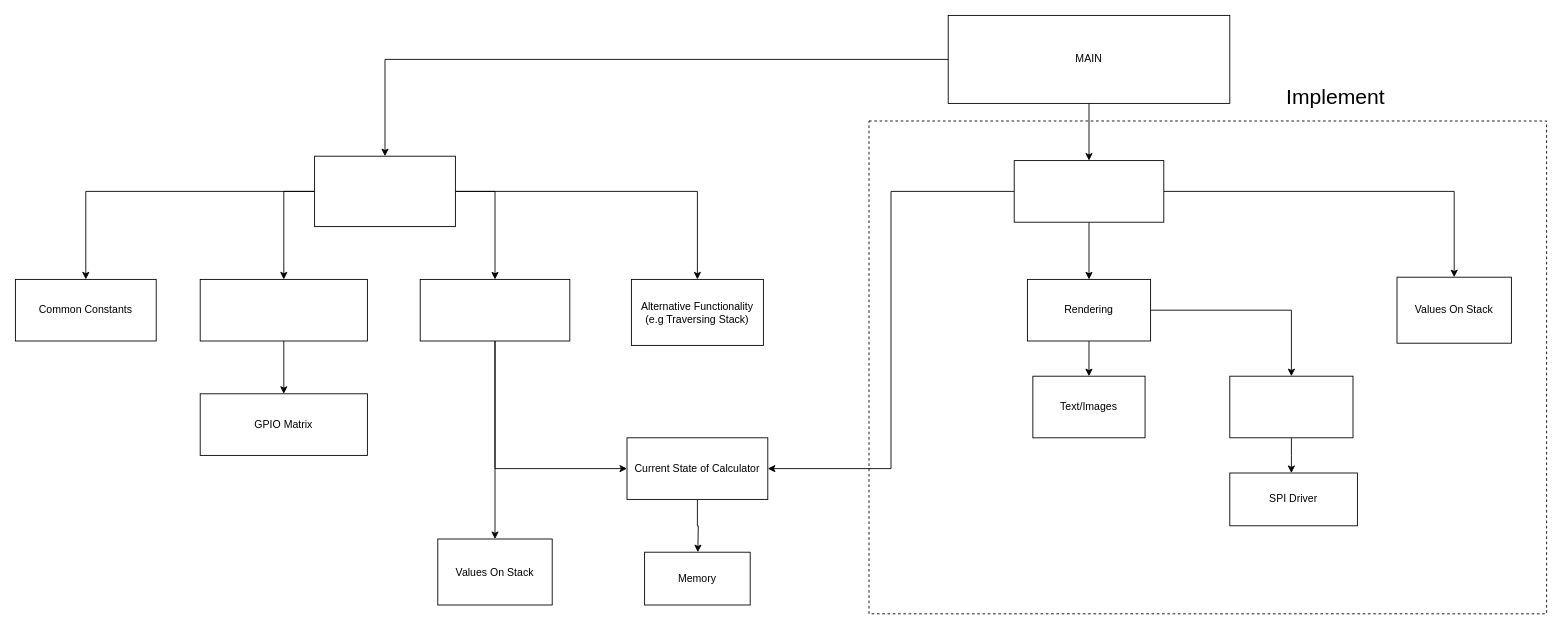
Some shapes in this 1562 by 629 pixel diagram are drawn without their labels. Here are the shapes that lost their labels. From the top down, the centre of each, then its label:
At (x=384, y=191): "Command Parser".
At (x=1088, y=191): "LCD".
At (x=283, y=310): "Buttons".
At (x=494, y=310): "Mathematical Functions".
At (x=1291, y=406): "Shift Bit Register".
